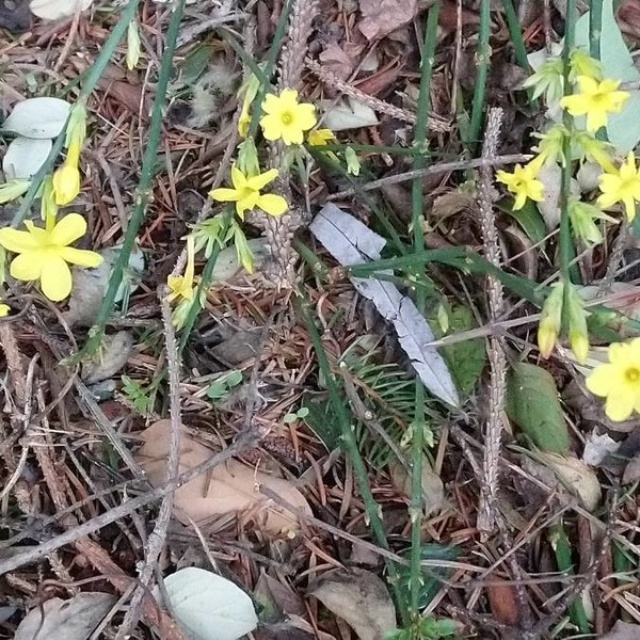obstacle: (20, 60, 322, 314), (490, 73, 609, 402)
